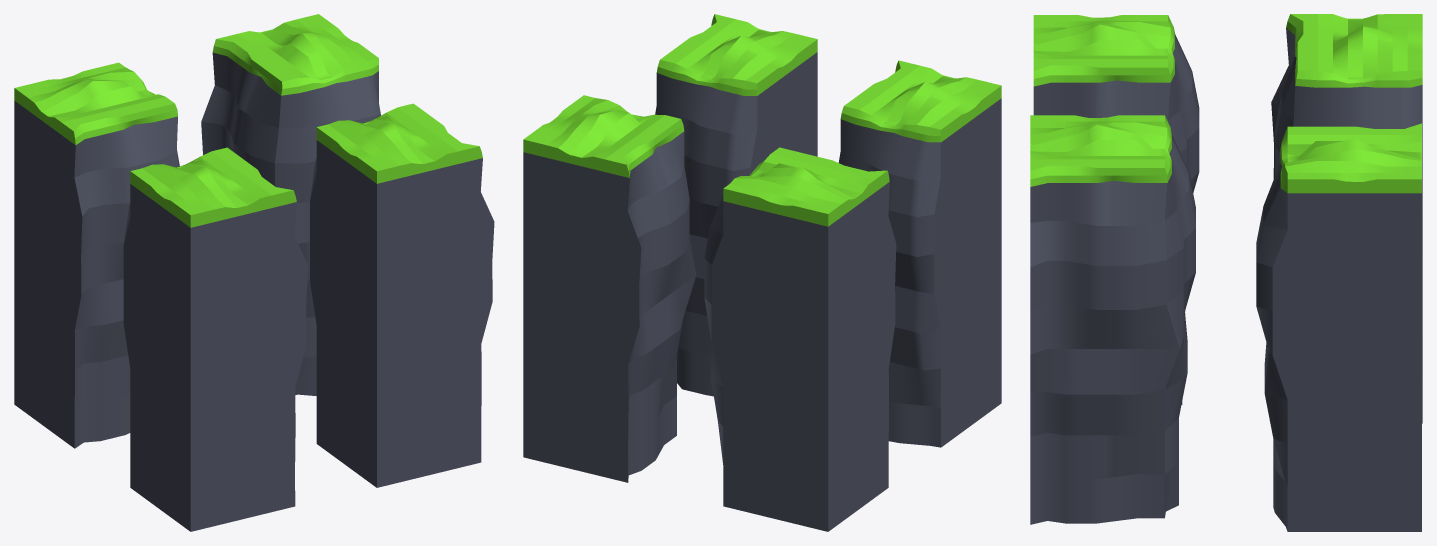
Rendered from +BlockSet.dae.
3 views of the same model, side by side, from view 1: azimuth 30°, elevation 25°; view 2: azimuth 150°, elevation 25°; view 3: azimuth 270°, elevation 25° (orthographic). The views are drawn at different scales.
Visible parts, largest first — view 1: BlockSet; view 2: BlockSet; view 3: BlockSet.
Part boxes in pixels (x1,y1,x2,y2): BlockSet: (14, 14, 494, 531); BlockSet: (523, 14, 1001, 531); BlockSet: (1030, 14, 1422, 531).
Size of the model in its own units: 156 by 162 by 157.
